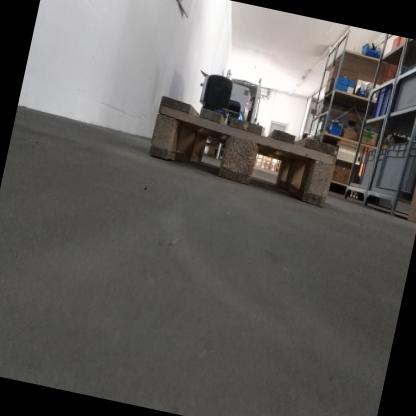BoxFace: (145, 87, 343, 214)
